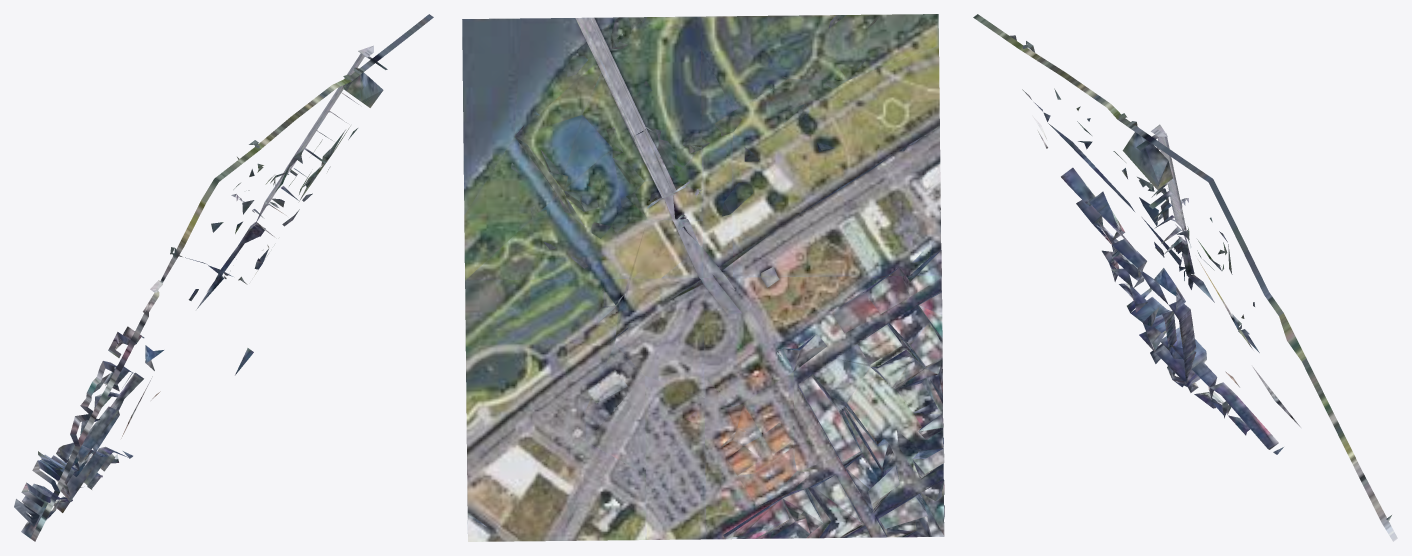
The picture shows the model from 3 angles, left to right: view 1: azimuth 30°, elevation 25°; view 2: azimuth 150°, elevation 25°; view 3: azimuth 270°, elevation 25°; orthographic projection. The views are drawn at different scales.
Size of the model in its own units: 625 by 561 by 519.
1 material, 1 textured.
